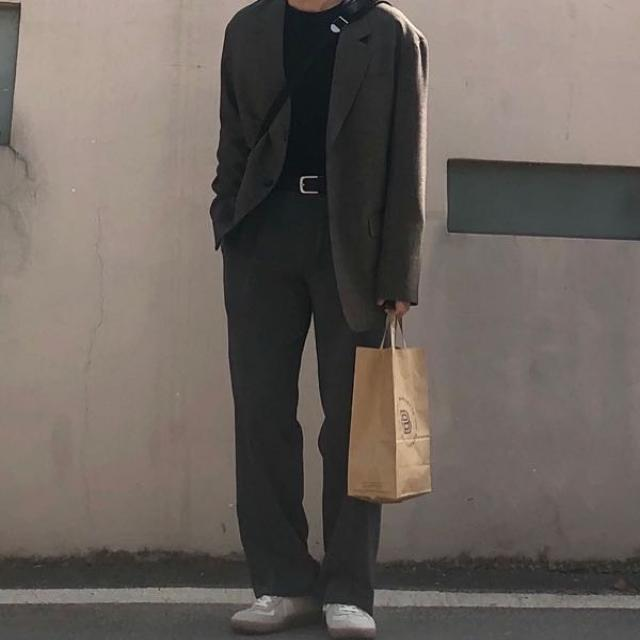blazer: (210, 0, 428, 332)
slacks: (220, 185, 388, 619)
